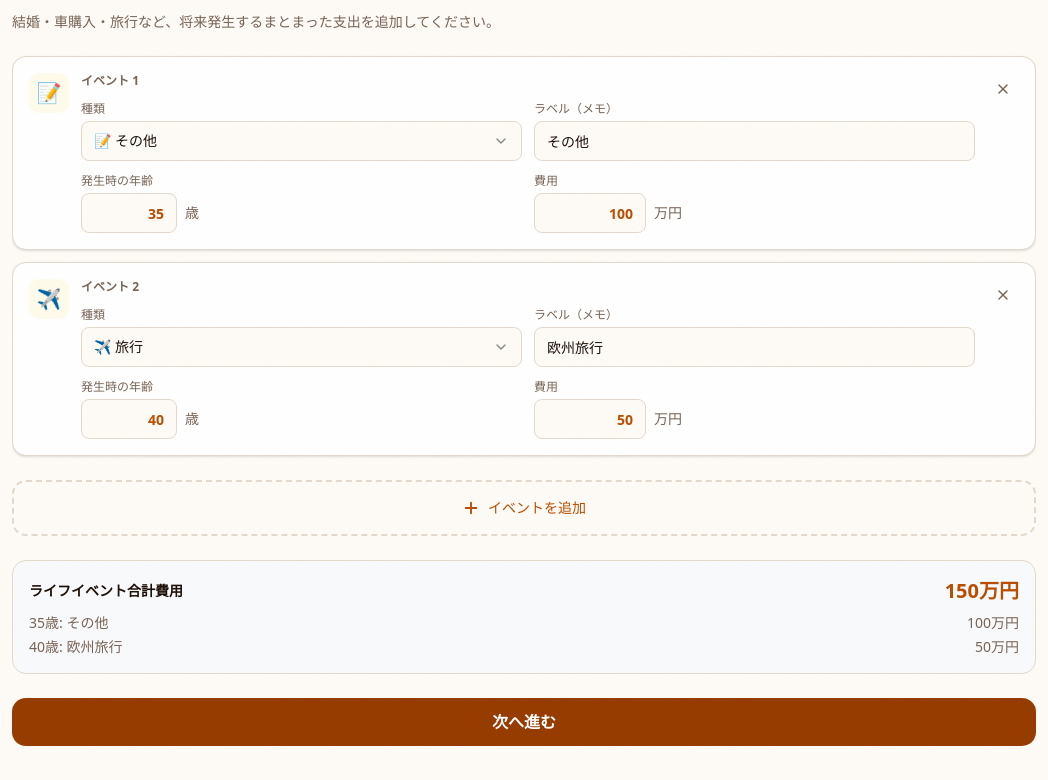
Scenario: life events › deleting happens at once and 元に戻す puts the event back in the same place
Click the button named "イベント1（その他）を削除" at (1003, 89), box [981,67,1025,111]
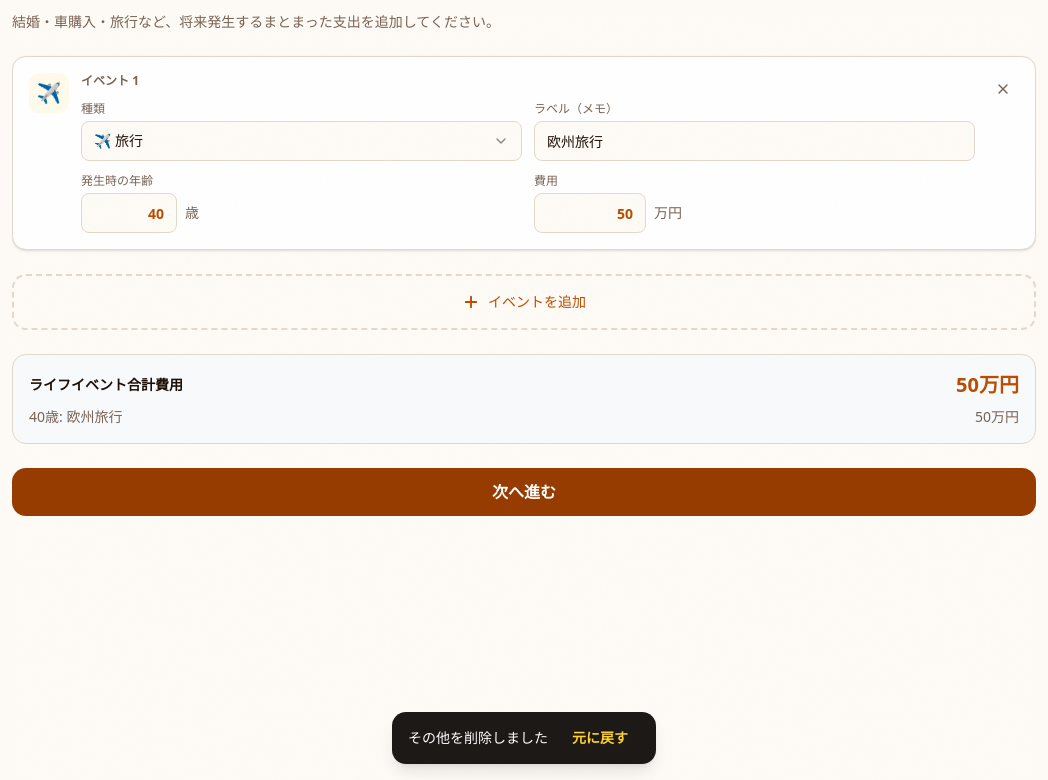
Expected: the text "その他を削除しました" is shown, [408,728,548,748]
Click the button "元に戻す" at (600, 738), box [560,716,640,760]
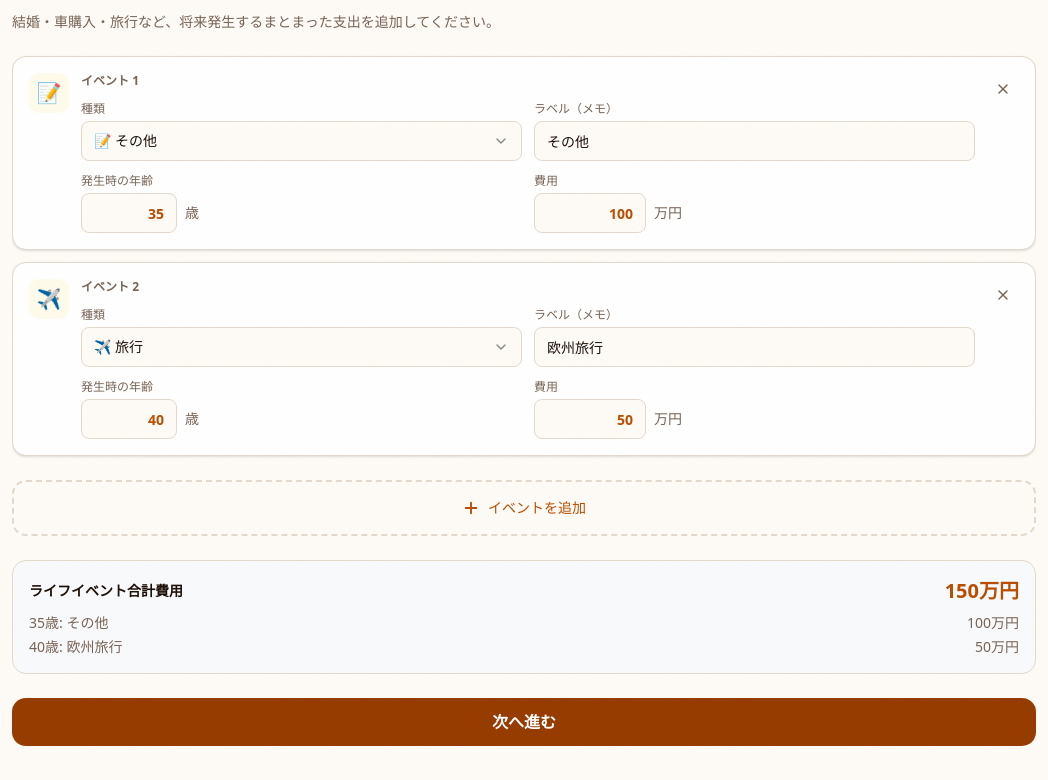
Expected: the field named "イベント1のラベル" is shown, [534,121,975,161]
